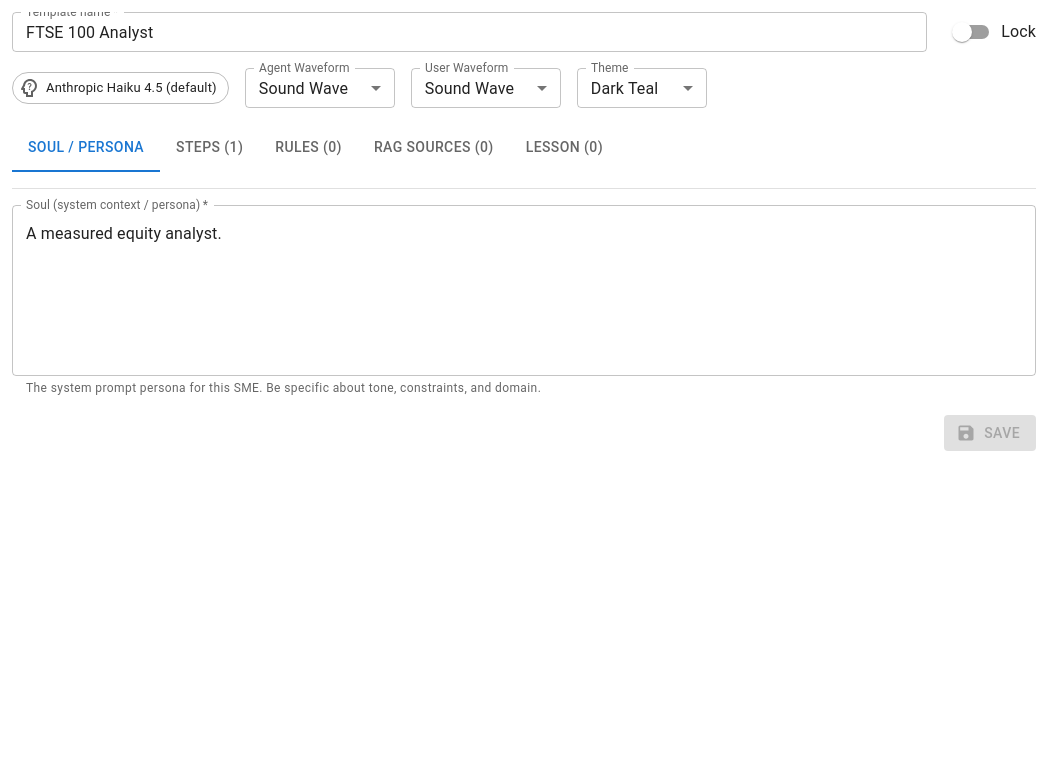
Test: SmeEditor › switches panels when a tab is clicked
Expected: the text "Reasoning Steps" is not shown
Click the tab "Steps (1)".
click(210, 148)  # box [160,124,259,172]
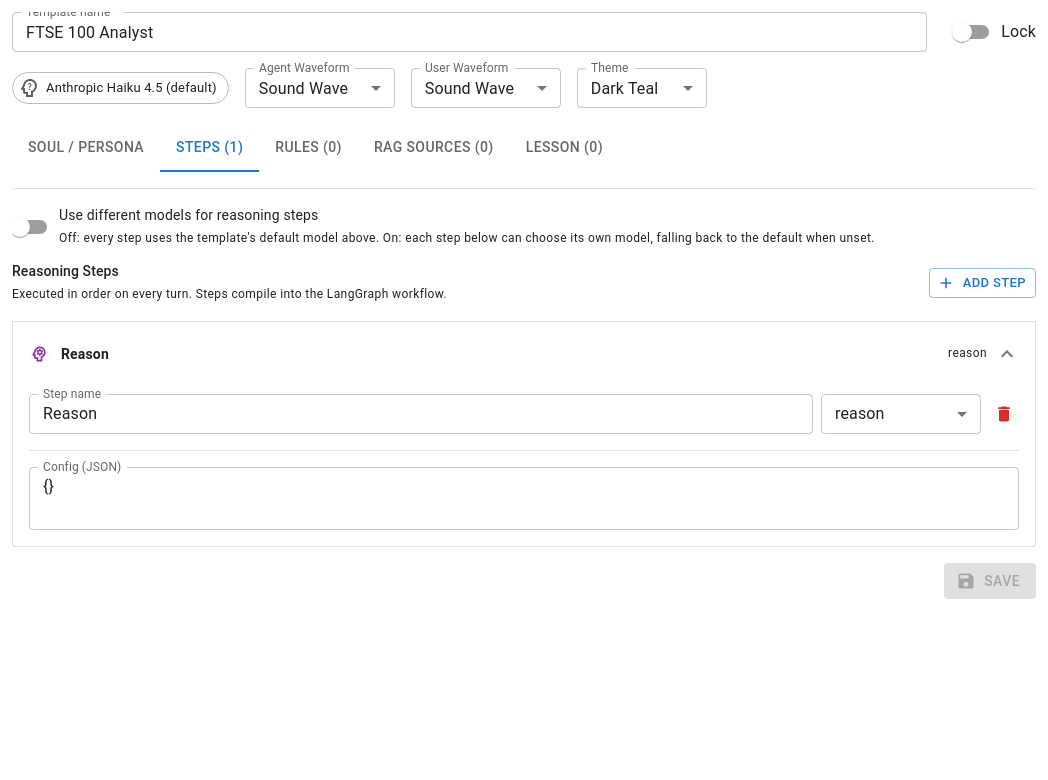
Expected: the heading "Reasoning Steps" is shown, [12,263,119,279]
